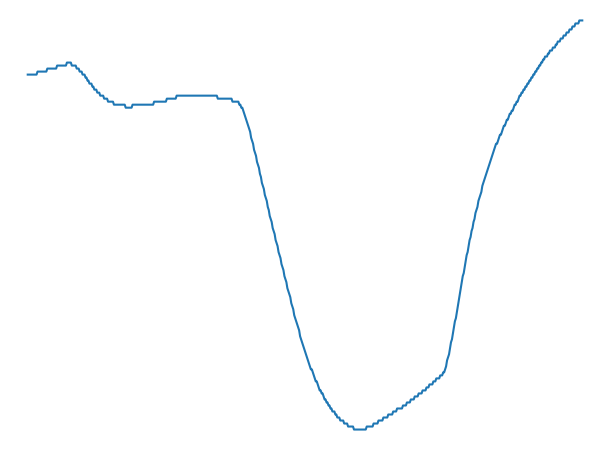decrease: (216, 89, 252, 122)
increase: (427, 356, 455, 387)
